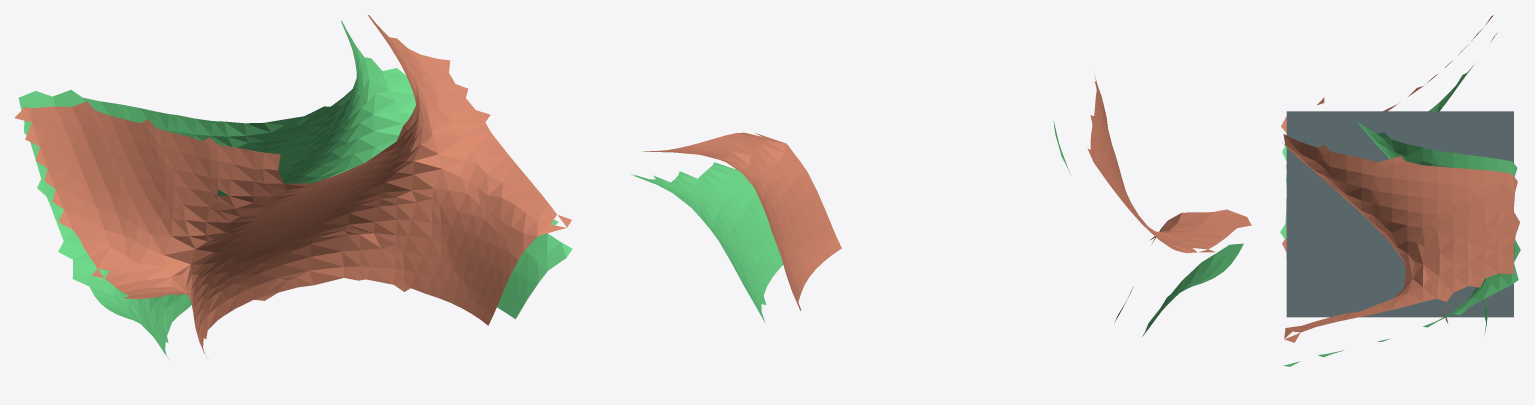
File: 03_fault_model.glb
3 renders of one model, left to right at view 1: azimuth 30°, elevation 25°; view 2: azimuth 150°, elevation 25°; view 3: azimuth 270°, elevation 25°, orthographic. The views are drawn at different scales.
Parts seen in each view (by area): view 1: top, bottom; view 2: top, bottom; view 3: fault, top, bottom.
Boxes of the visible parts, bbox=[...] form: top: bbox=[15, 14, 571, 359]; bottom: bbox=[18, 21, 572, 359]; top: bbox=[642, 74, 1251, 322]; bottom: bbox=[631, 121, 1243, 336]; fault: bbox=[1286, 111, 1513, 317]; top: bbox=[1281, 15, 1519, 342]; bottom: bbox=[1280, 32, 1520, 366].
Size of the model in its own units: 1995 by 1000 by 993.
